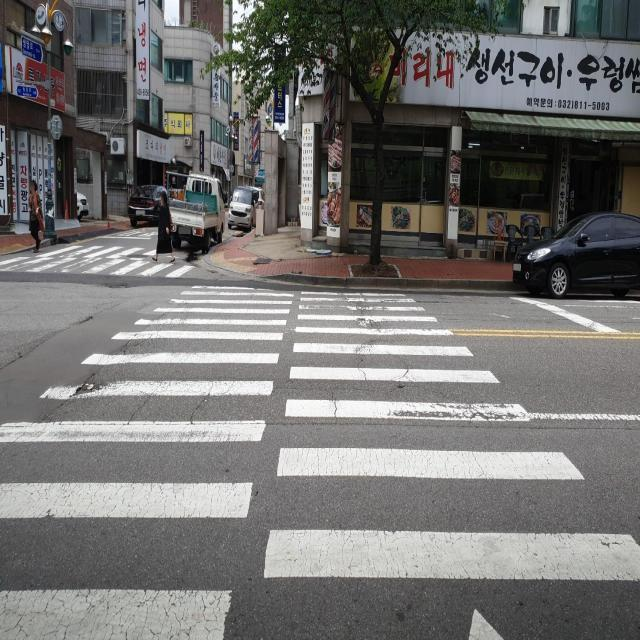횡단보도: (0, 279, 640, 640), (0, 246, 193, 285)
